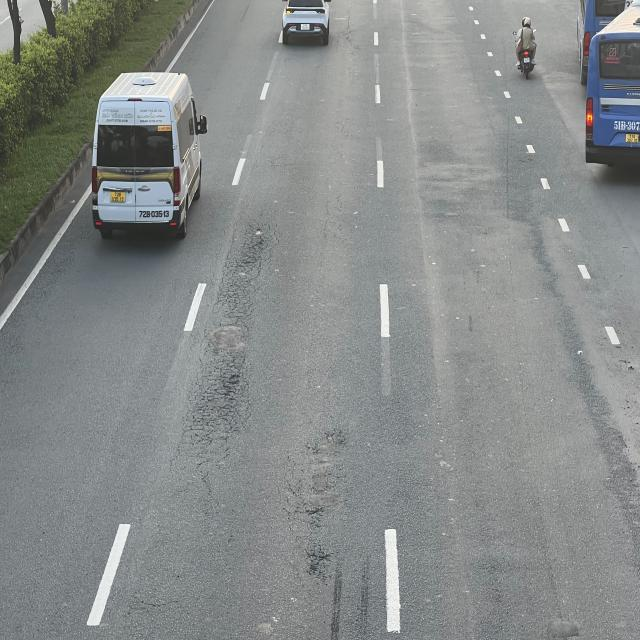car: (279, 0, 333, 43)
coach: (586, 0, 640, 167)
van: (92, 72, 209, 240)
